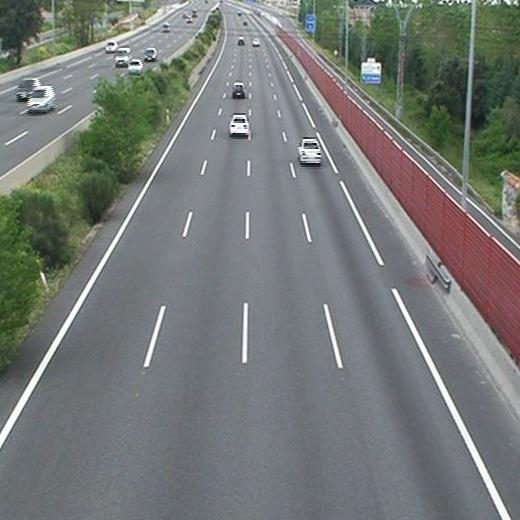car: (299, 138, 321, 163), (229, 115, 250, 135), (232, 82, 245, 96), (237, 37, 245, 45), (253, 38, 260, 46)
